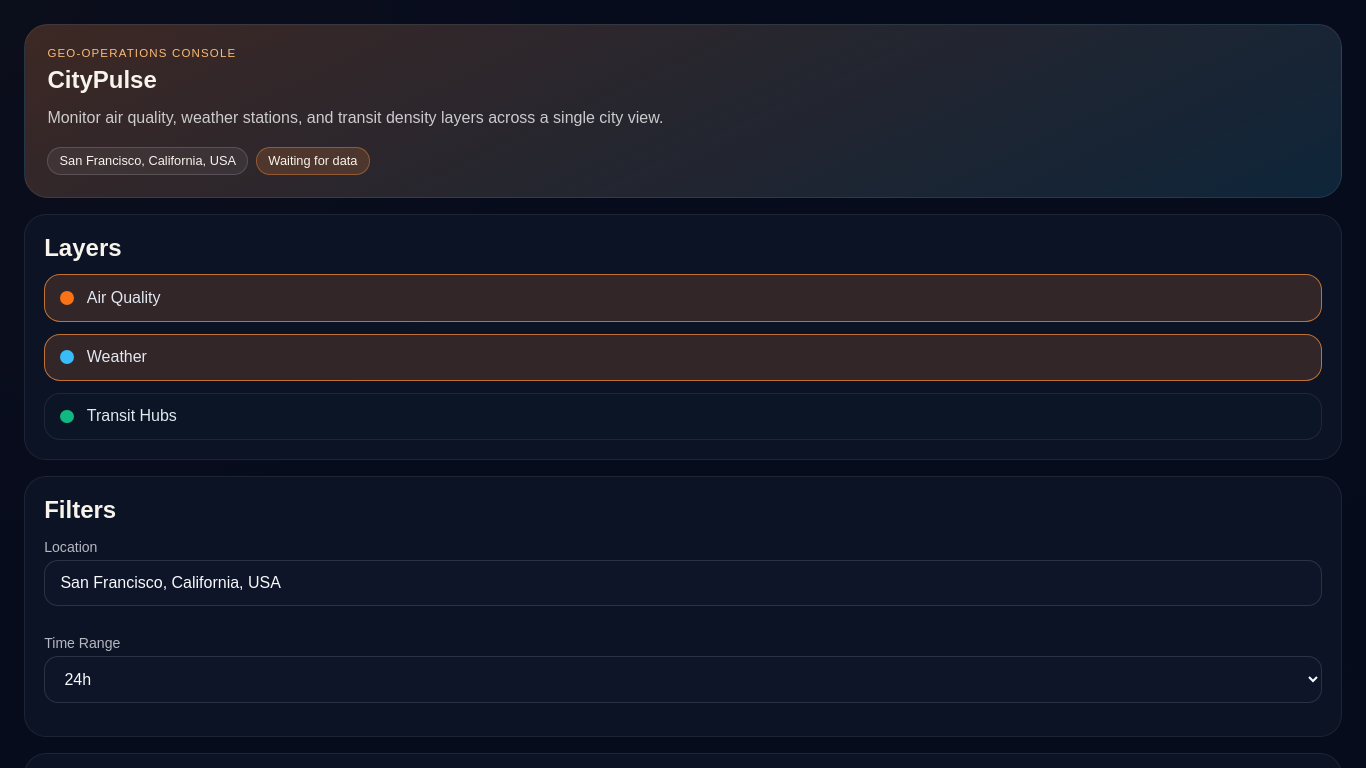
Test: Sidebar › updates city input
The width and height of the screenshot is (1366, 768).
Replace the text in the field labelled "Location" with "Austin": coordinates (683, 583) left=44, top=560, right=1322, bottom=606
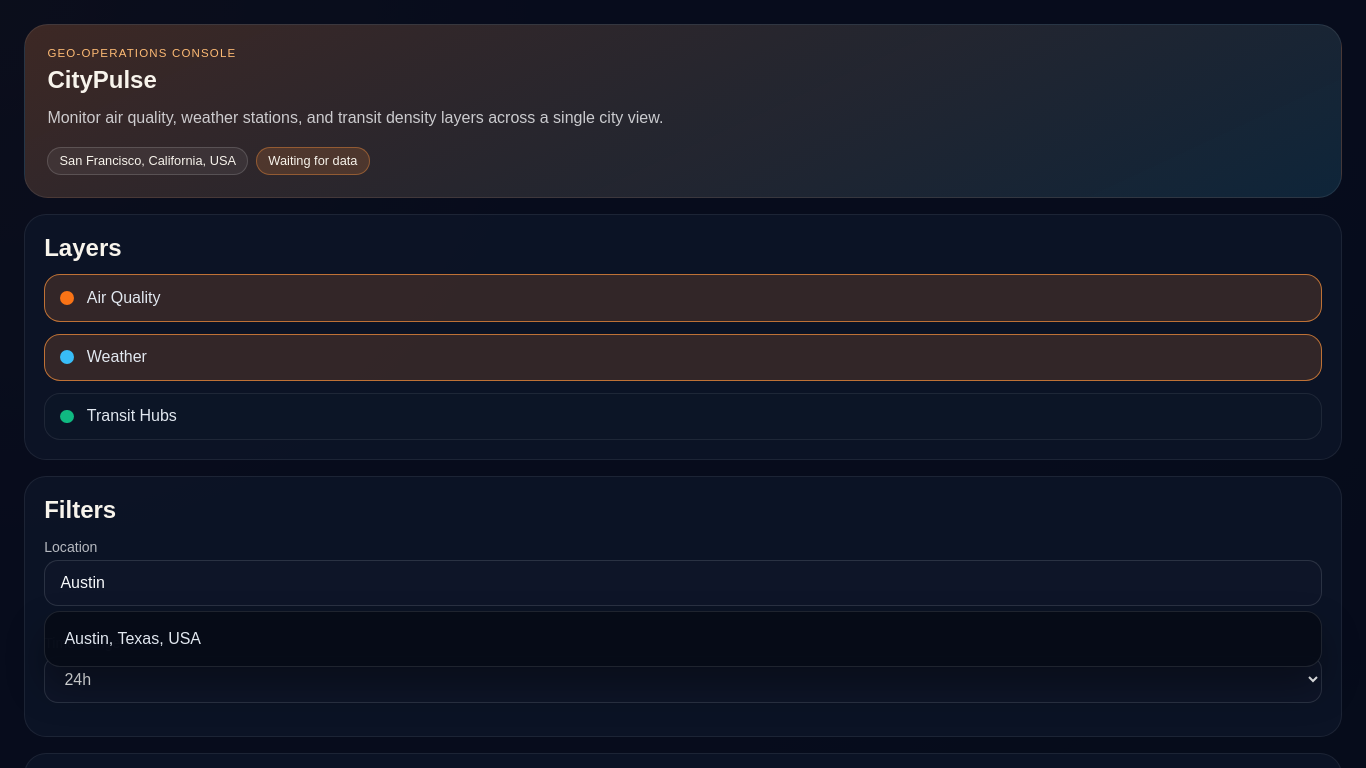
Click the button "Austin, Texas, USA": coordinates (133, 639) left=51, top=618, right=1315, bottom=660
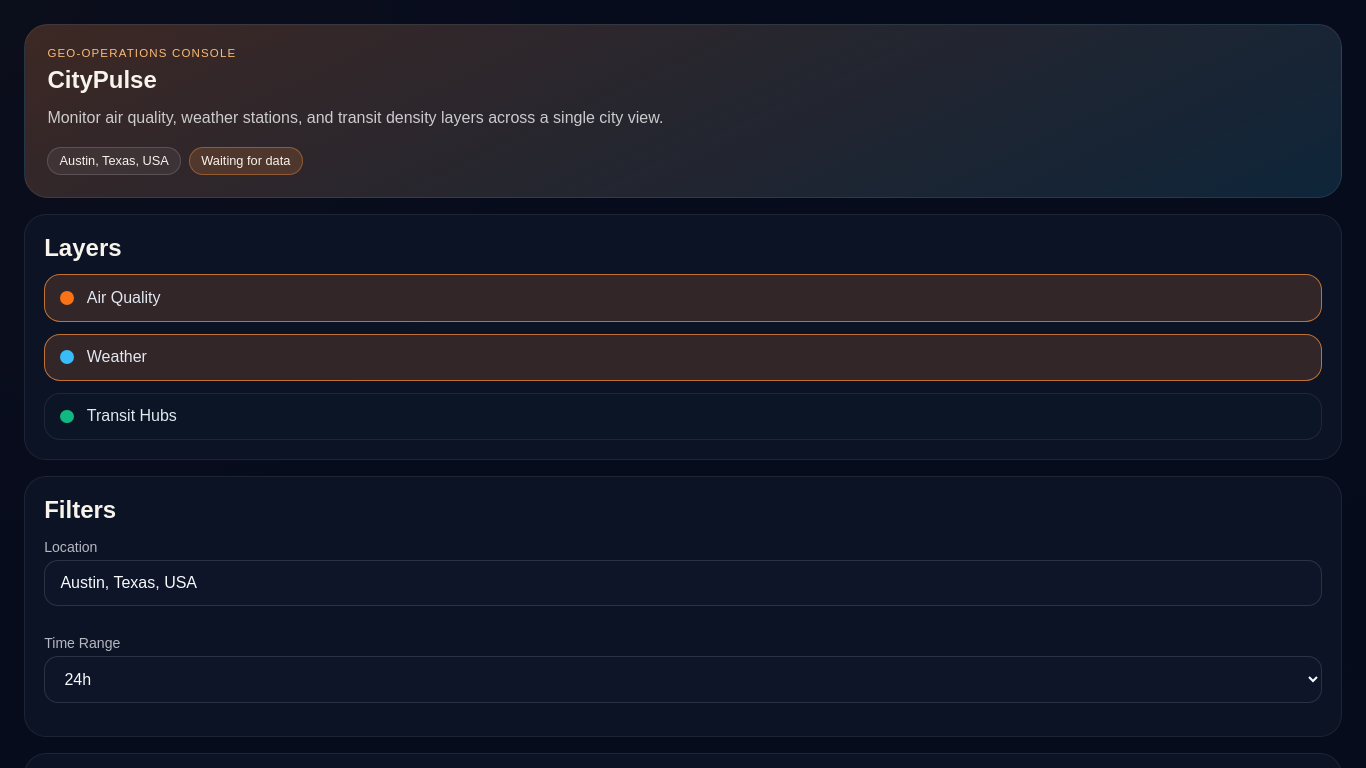
Expected: the text "Austin, Texas, USA" is shown, left=47, top=147, right=181, bottom=175
